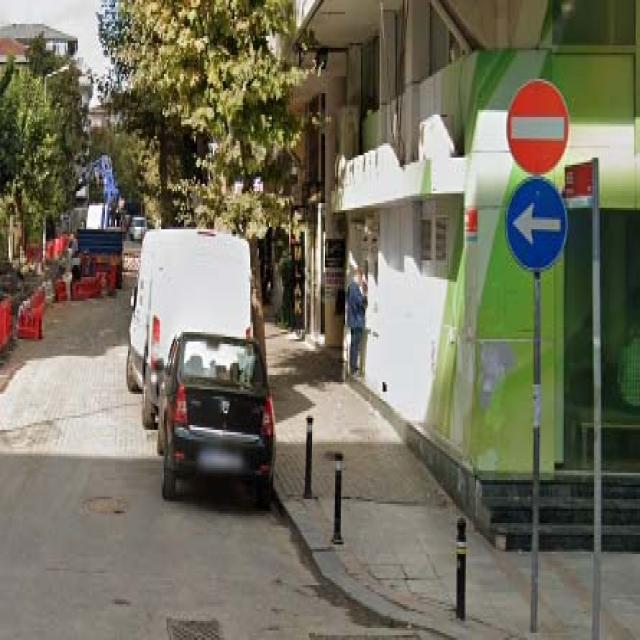girisyok: (506, 79, 570, 174)
sol: (506, 177, 567, 272)
